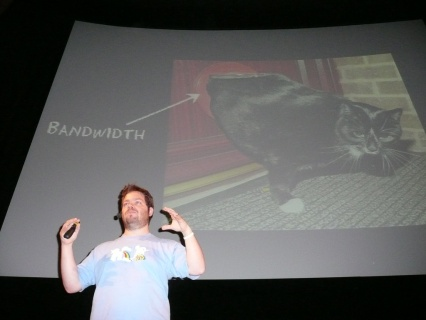Cat: (189, 69, 421, 209)
